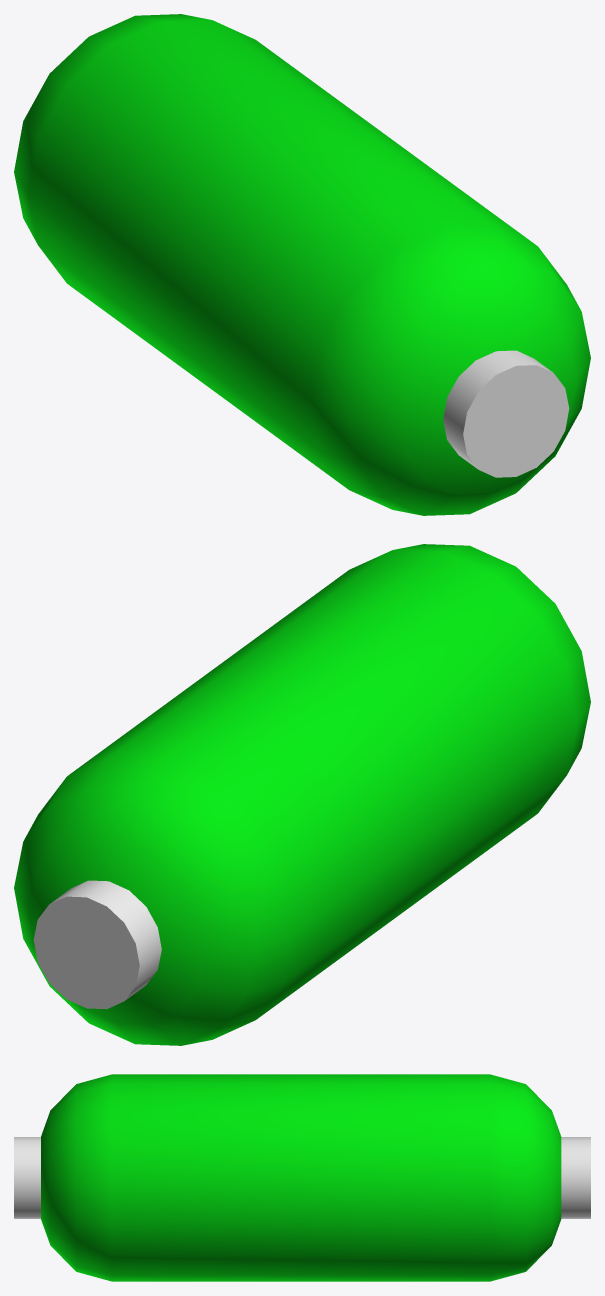
Rendered from Health.fbx.
The picture shows the model from 3 angles, top to bottom: view 1: azimuth 30°, elevation 25°; view 2: azimuth 150°, elevation 25°; view 3: azimuth 270°, elevation 25°; orthographic projection. The views are drawn at different scales.
Visible parts, largest first — view 1: Cylinder; view 2: Cylinder; view 3: Cylinder.
Part boxes in pixels (box(x1,y1,x2,y2)): Cylinder: box(14, 14, 590, 515); Cylinder: box(14, 544, 590, 1045); Cylinder: box(14, 1074, 590, 1281).
Size of the model in its own units: 0.8142 by 0.8142 by 2.27.
